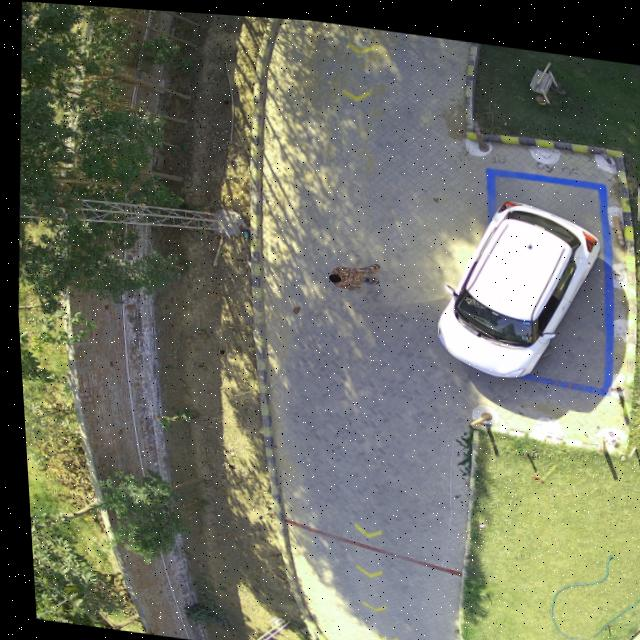car: (436, 194, 596, 370)
